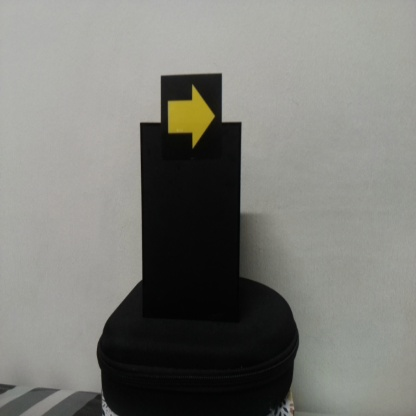id_3: (161, 76, 223, 158)
